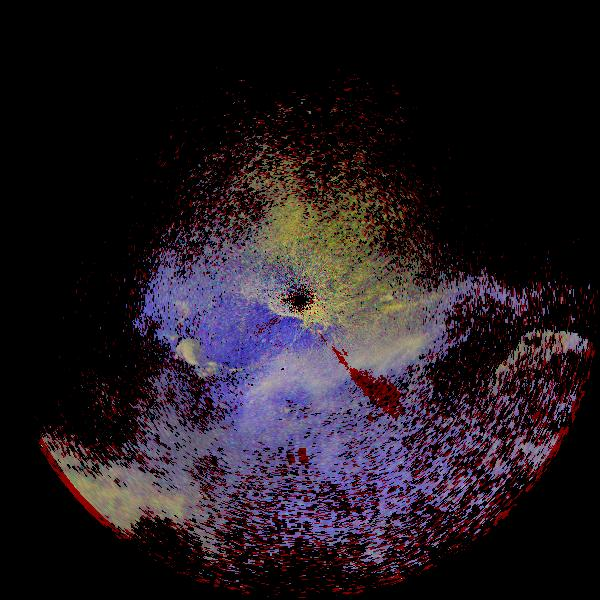roost: (110, 315, 215, 420)
